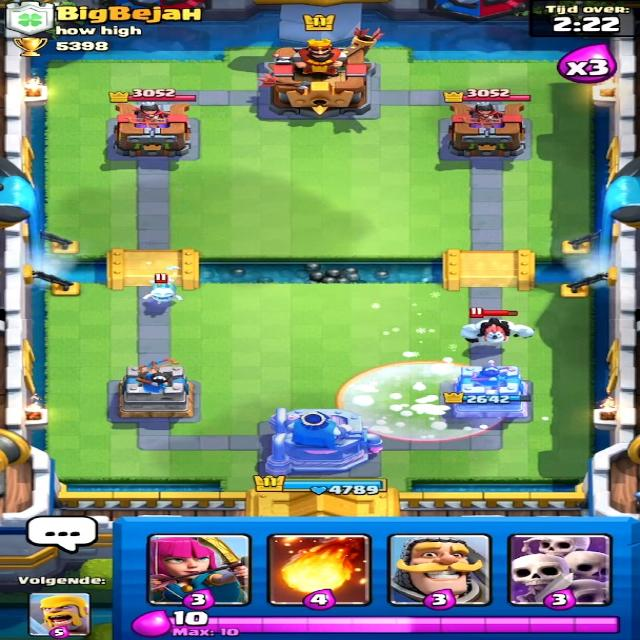Enemy_Ice_Golem_Troop: (457, 318, 532, 350)
Enemy_Ice_Spirit_Troop: (139, 279, 182, 311)
Fireball_Card: (268, 532, 373, 608)
